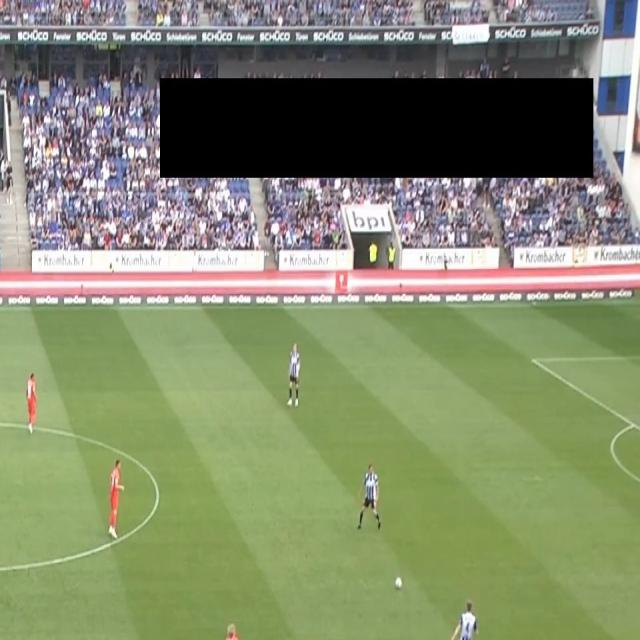ball: (395, 576, 403, 590)
